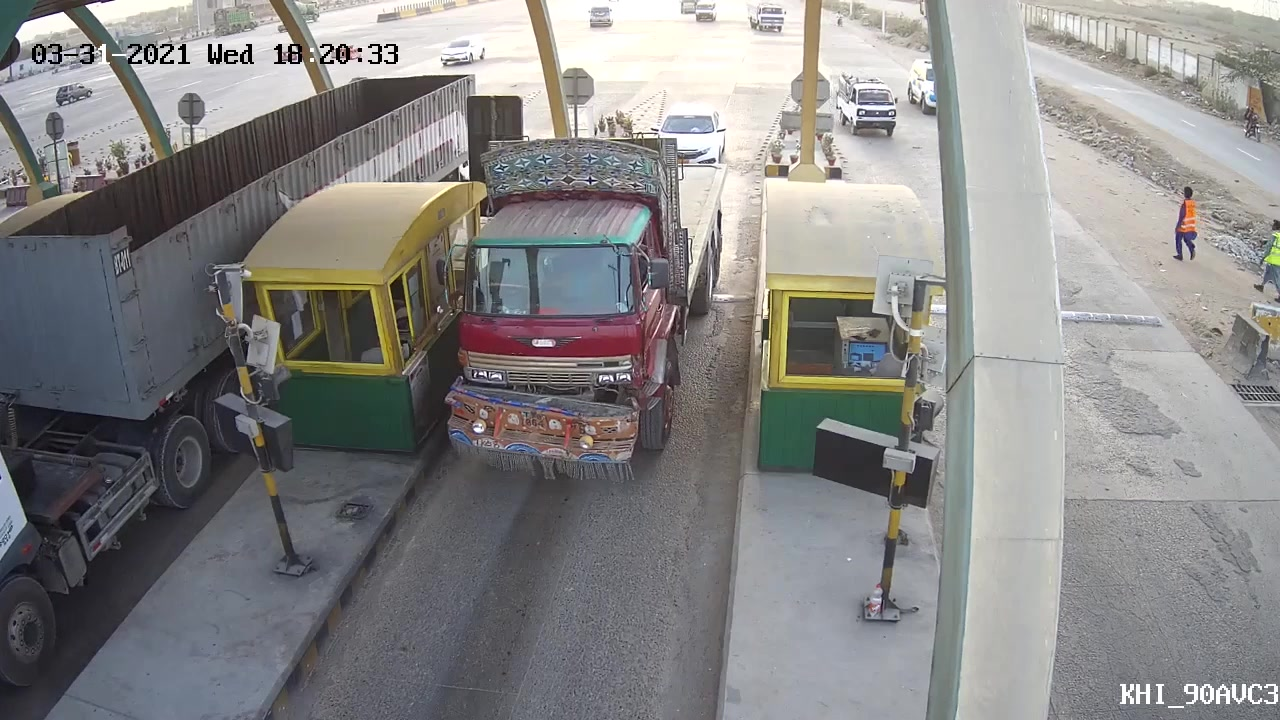F6: (433, 139, 733, 477)
